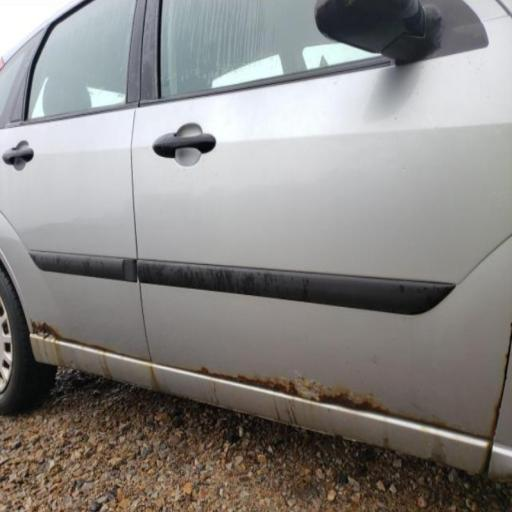rust: (211, 326, 411, 431), (26, 312, 169, 392)
